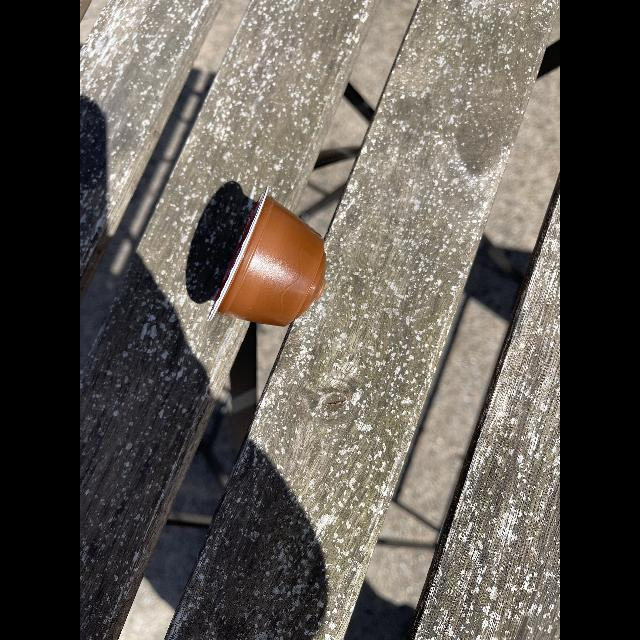intact_capsule: (206, 190, 350, 340)
